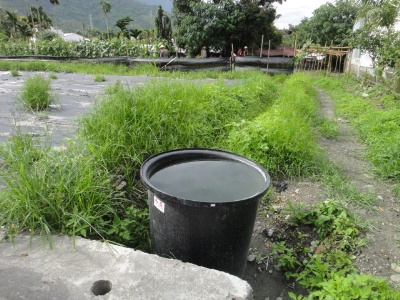bucket: (137, 146, 272, 280)
